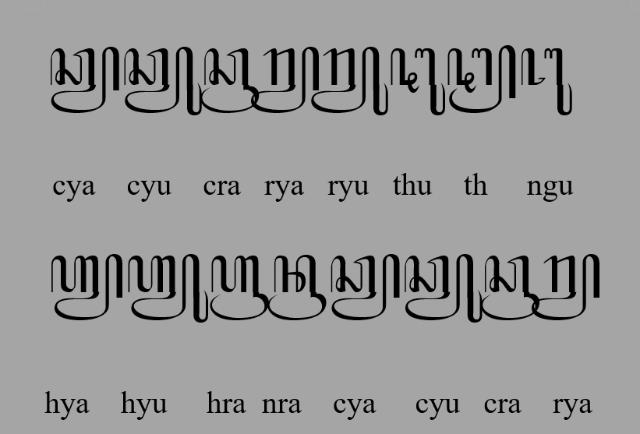cr: (480, 254, 540, 322), (200, 48, 260, 114)
cy: (50, 46, 120, 114), (331, 253, 401, 320)
cyu: (124, 46, 202, 116), (404, 254, 484, 322)
hr: (210, 255, 270, 321)
hy: (51, 253, 123, 321)
hyu: (127, 254, 209, 324)
ngu: (520, 47, 572, 116)
nr: (268, 253, 326, 320)
ry: (250, 46, 320, 114), (532, 253, 600, 321)
ryu: (312, 46, 388, 116)
th: (447, 44, 517, 114)
thu: (390, 46, 446, 116)
